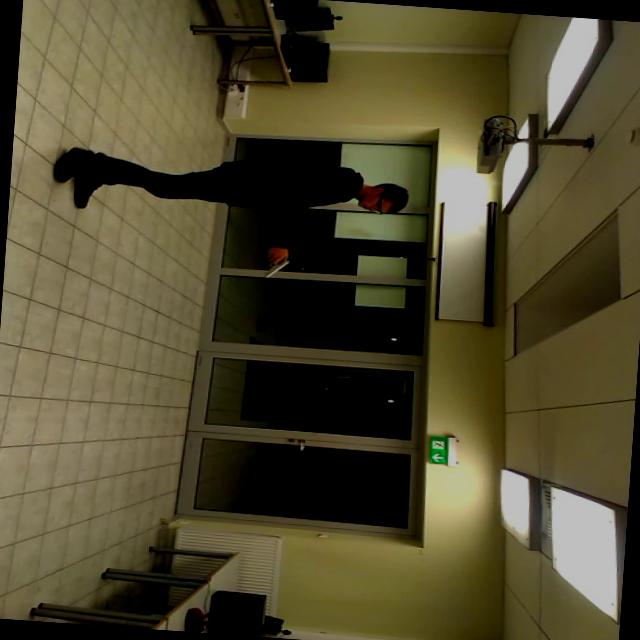handgun: (246, 250, 292, 289)
